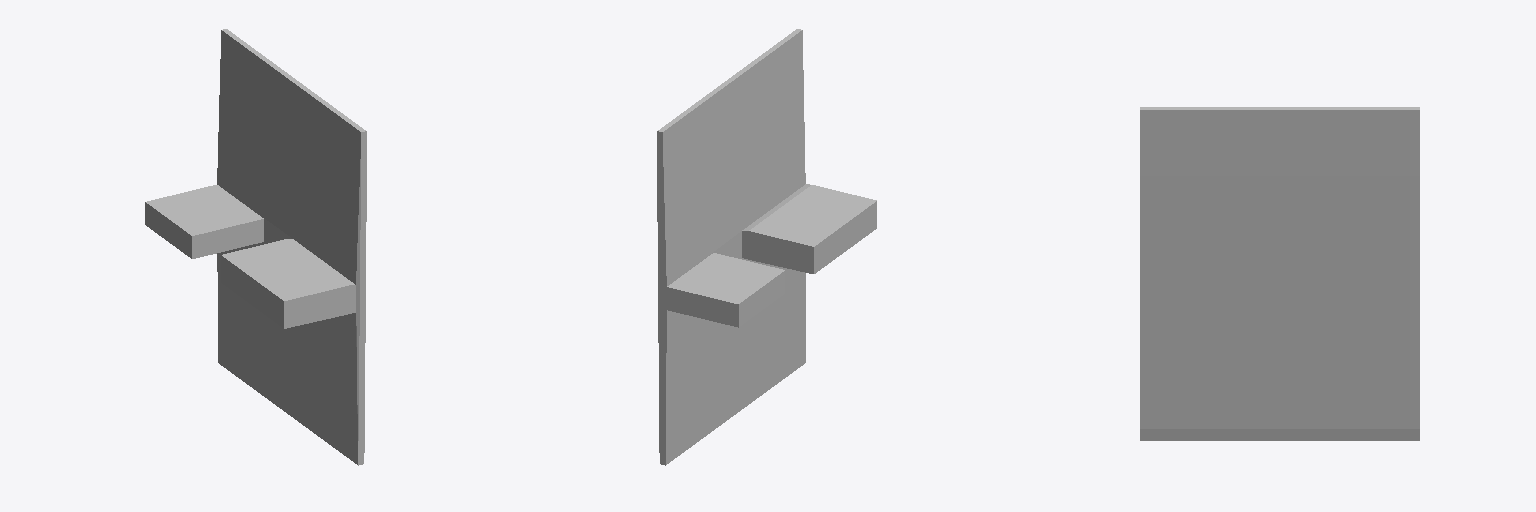
Rendered from tight_env-acd.obj.
The picture shows the model from 3 angles: view 1: azimuth 30°, elevation 25°; view 2: azimuth 150°, elevation 25°; view 3: azimuth 270°, elevation 25°; orthographic projection.
Visible parts, largest first — view 1: convex_0, convex_2, convex_1; view 2: convex_0, convex_2, convex_1; view 3: convex_0.
Boxes of the visible parts, <box> form: convex_0: <box>217,29,366,465</box>; convex_2: <box>221,239,355,328</box>; convex_1: <box>145,185,263,258</box>; convex_0: <box>657,29,805,465</box>; convex_2: <box>742,184,876,273</box>; convex_1: <box>667,253,784,327</box>; convex_0: <box>1140,107,1419,440</box>.
Bounding box in the file's own units: 0.385 × 1.51 × 1.15.